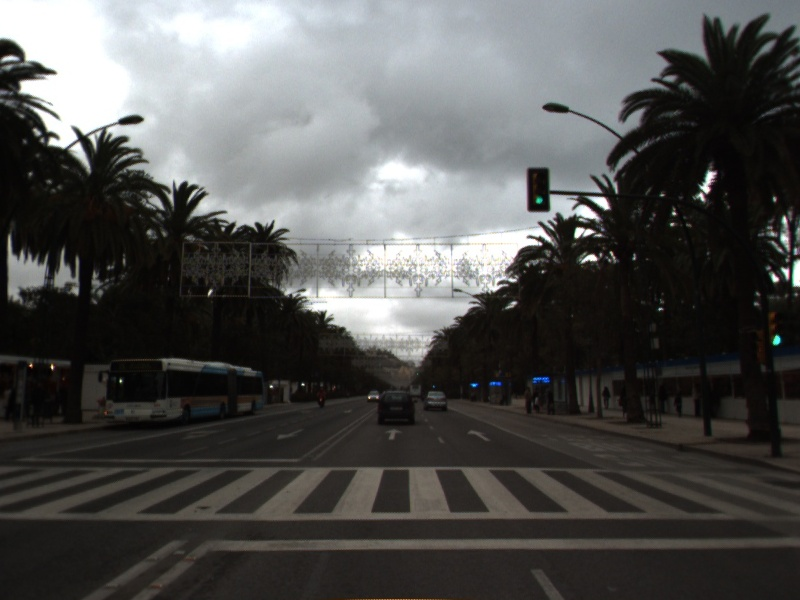STRAIGHT: (465, 427, 493, 443), (383, 427, 405, 442)
